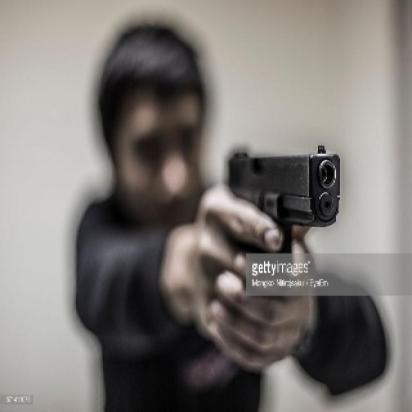Gun: (221, 145, 344, 293)
